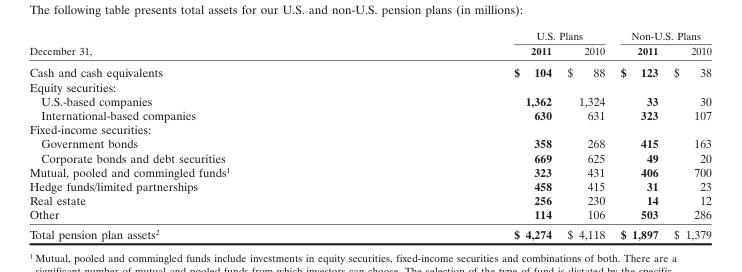table: (28, 28, 710, 240)
table column: (28, 28, 371, 240), (371, 28, 558, 240), (558, 28, 612, 240), (612, 28, 665, 240), (665, 28, 710, 240)
table column header: (28, 28, 710, 61)
table projected row header: (28, 121, 710, 136), (28, 79, 710, 93)
table row: (28, 42, 710, 61), (28, 61, 710, 79), (28, 207, 710, 224), (28, 224, 710, 240), (28, 121, 710, 136), (28, 178, 710, 193), (28, 28, 710, 42), (28, 79, 710, 93), (28, 93, 710, 107), (28, 107, 710, 121), (28, 136, 710, 150), (28, 150, 710, 164), (28, 164, 710, 178), (28, 193, 710, 207)
table spanning cell: (28, 28, 371, 61), (371, 28, 612, 42), (612, 28, 710, 42)
